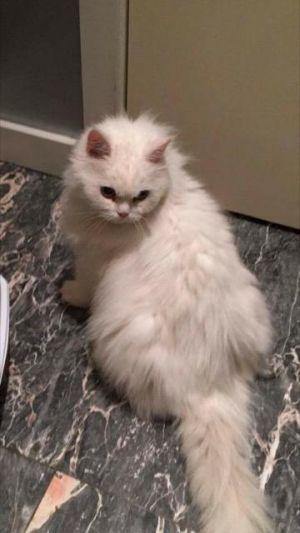persian: (68, 120, 182, 241)
